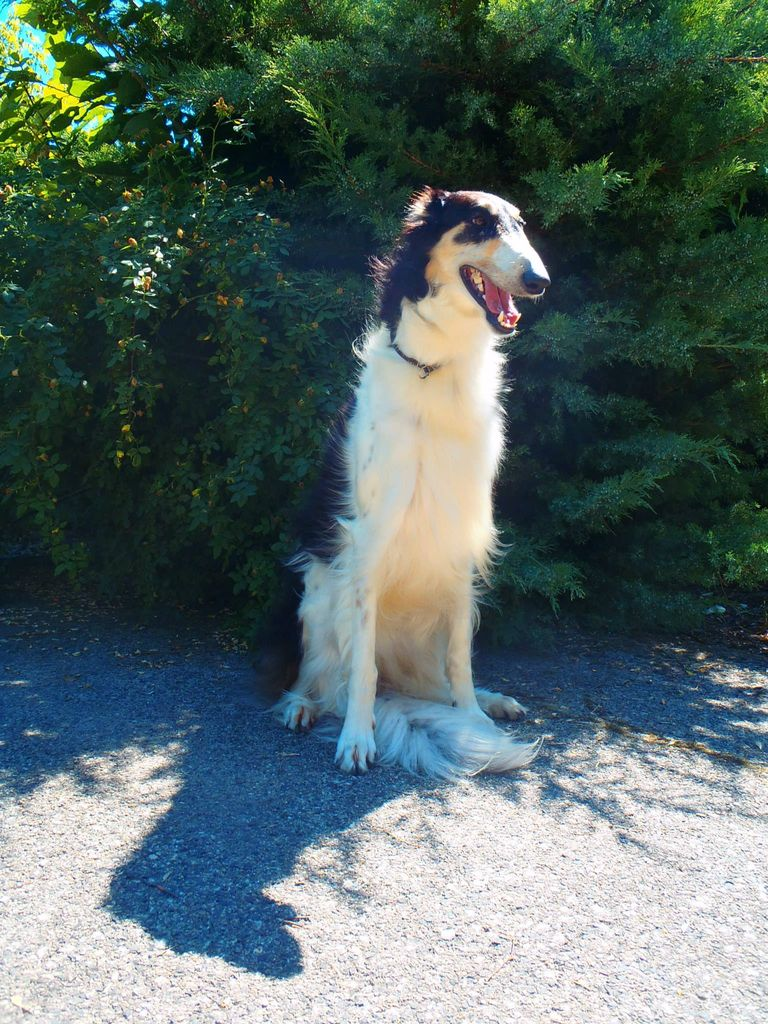borzoi: (272, 187, 607, 785)
